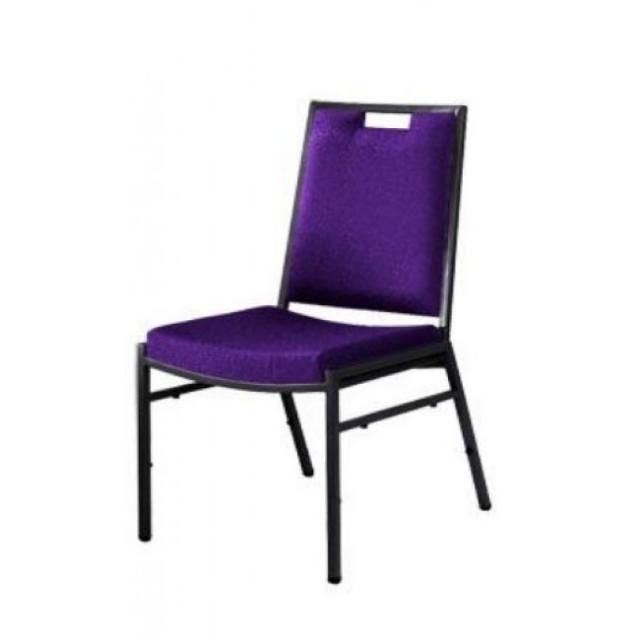chair: (130, 98, 501, 585)
